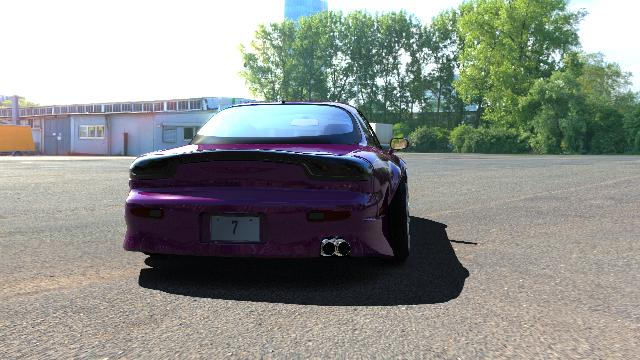License Plate: (212, 216, 260, 242)
